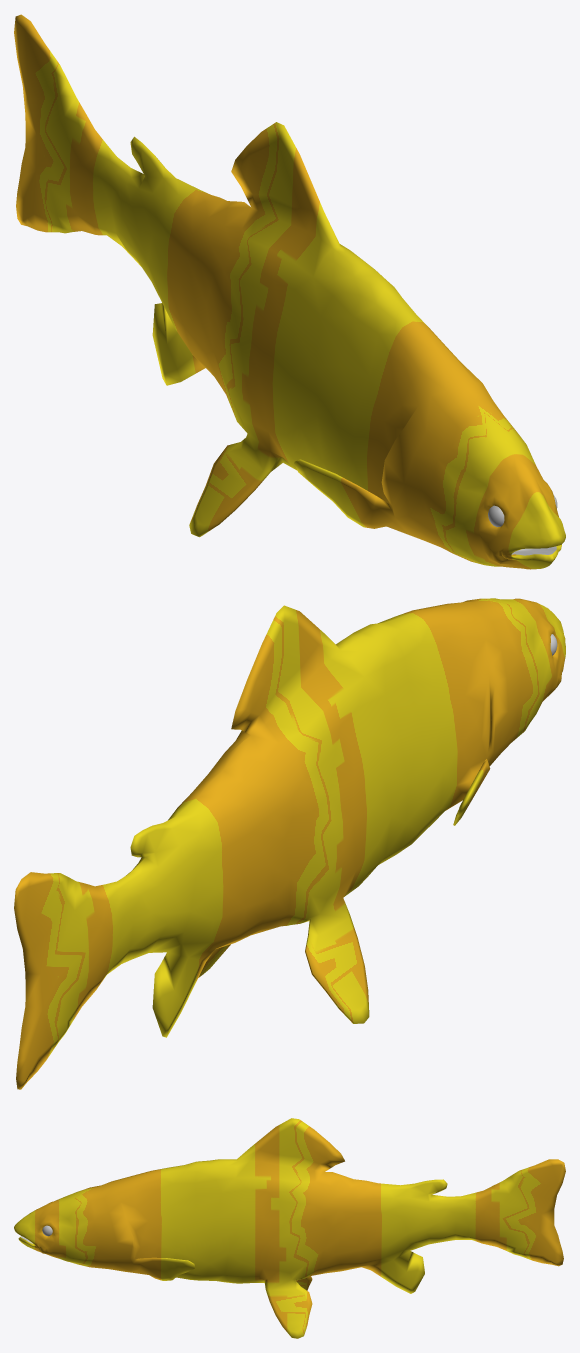
Rendered from rbtrout.obj.
3 views of the same model, one above another, from view 1: azimuth 30°, elevation 25°; view 2: azimuth 150°, elevation 25°; view 3: azimuth 270°, elevation 25° (orthographic). The views are drawn at different scales.
Visible parts, largest first — view 1: rt_body; view 2: rt_body; view 3: rt_body.
Boxes of the visible parts, x1,y1,x2,y2 form: rt_body: (14, 14, 565, 569); rt_body: (14, 598, 565, 1089); rt_body: (14, 1118, 565, 1338).
Size of the model in its own units: 1.45 by 3.13 by 7.85.
